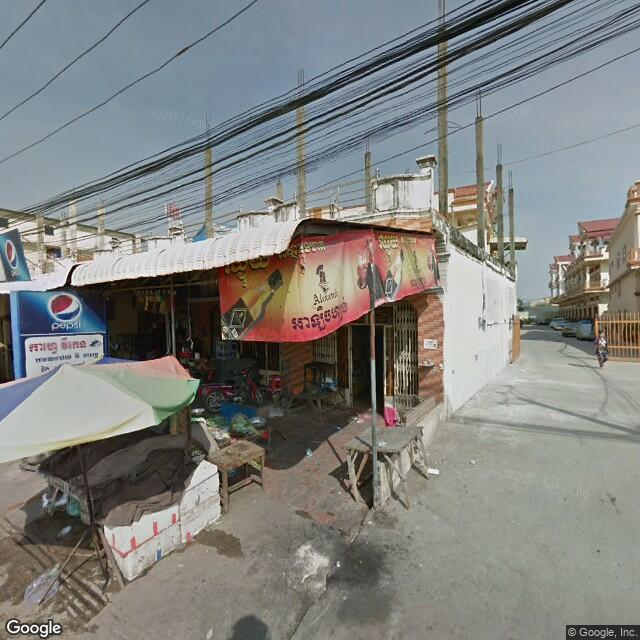litter: (15, 558, 71, 616), (30, 488, 57, 511), (425, 457, 446, 481), (303, 440, 315, 463)
